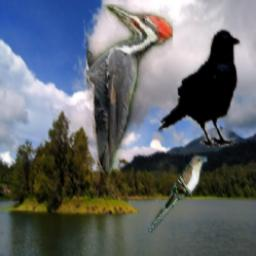Crow: (155, 29, 242, 148)
Cuckoo: (146, 154, 208, 235)
Woodpecker: (86, 4, 173, 171)
